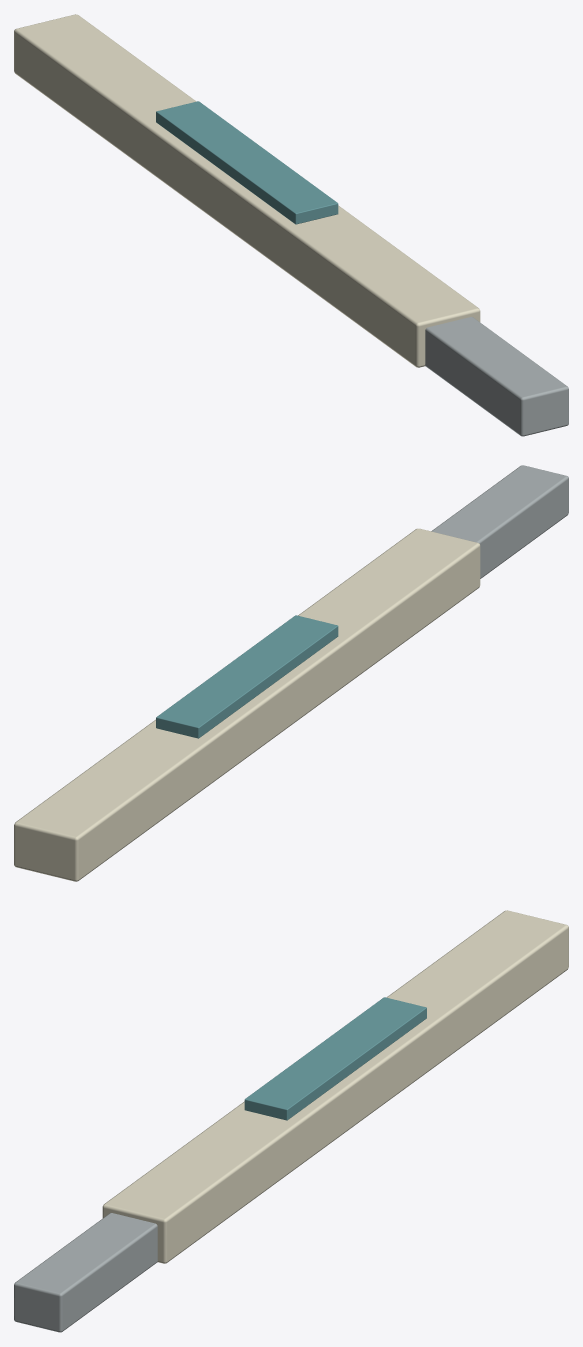
File: field-medicine-and-recovery-thermometer-a9c0cf33__3061.glb
The picture shows the model from 3 angles, top to bottom: view 1: azimuth 30°, elevation 25°; view 2: azimuth 150°, elevation 25°; view 3: azimuth 330°, elevation 25°; orthographic projection.
Parts seen in each view (by area): view 1: thermometer; view 2: thermometer; view 3: thermometer.
Boxes of the visible parts, left/top/right/bottom form: thermometer: left=14, top=14, right=568, bottom=436; thermometer: left=14, top=465, right=568, bottom=881; thermometer: left=14, top=910, right=568, bottom=1332.
Bounding box in the file's own units: 0.012 × 0.01 × 0.161.
